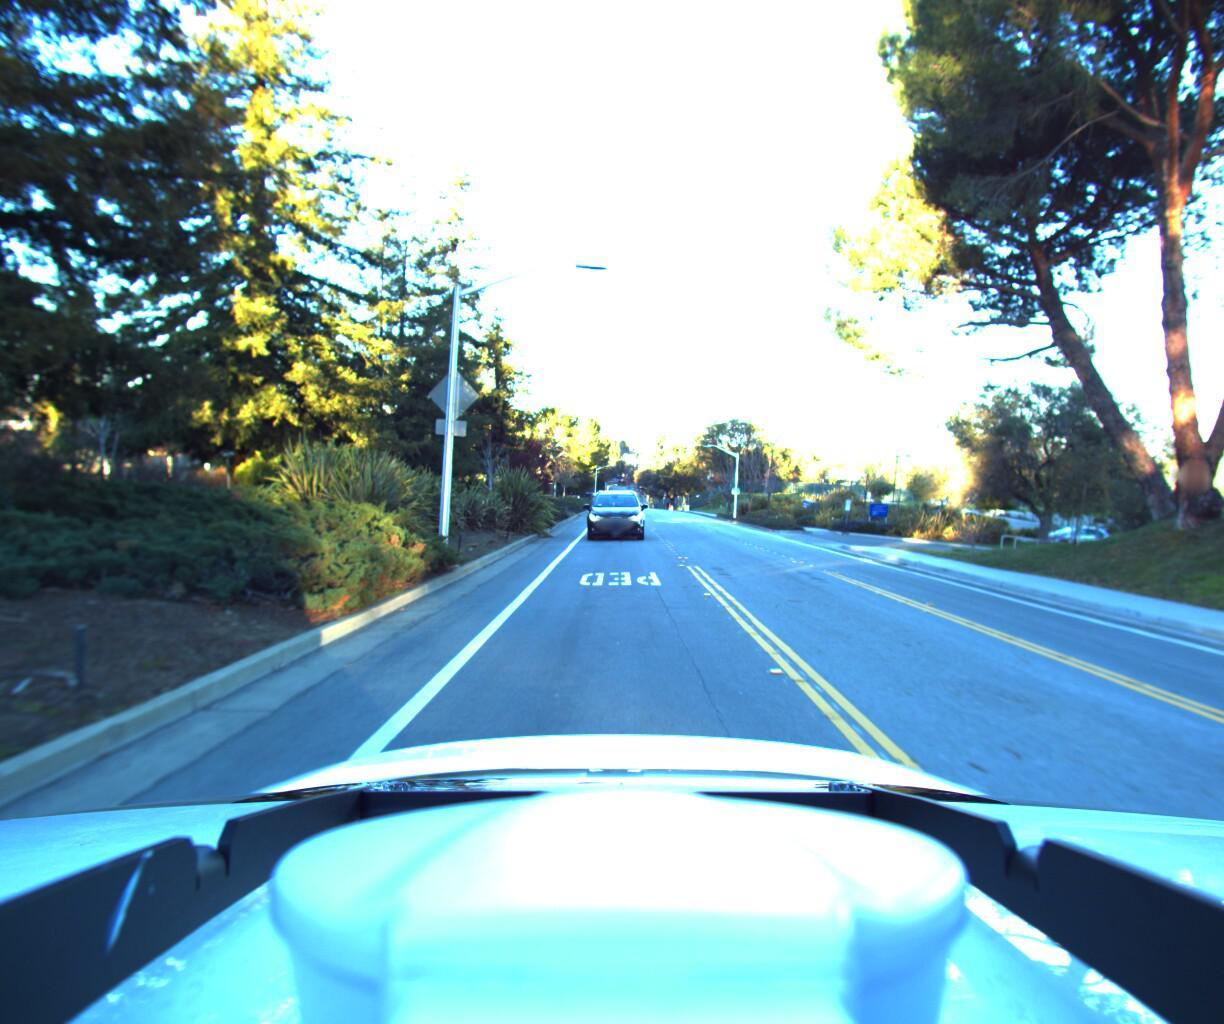car: (582, 478, 649, 543)
